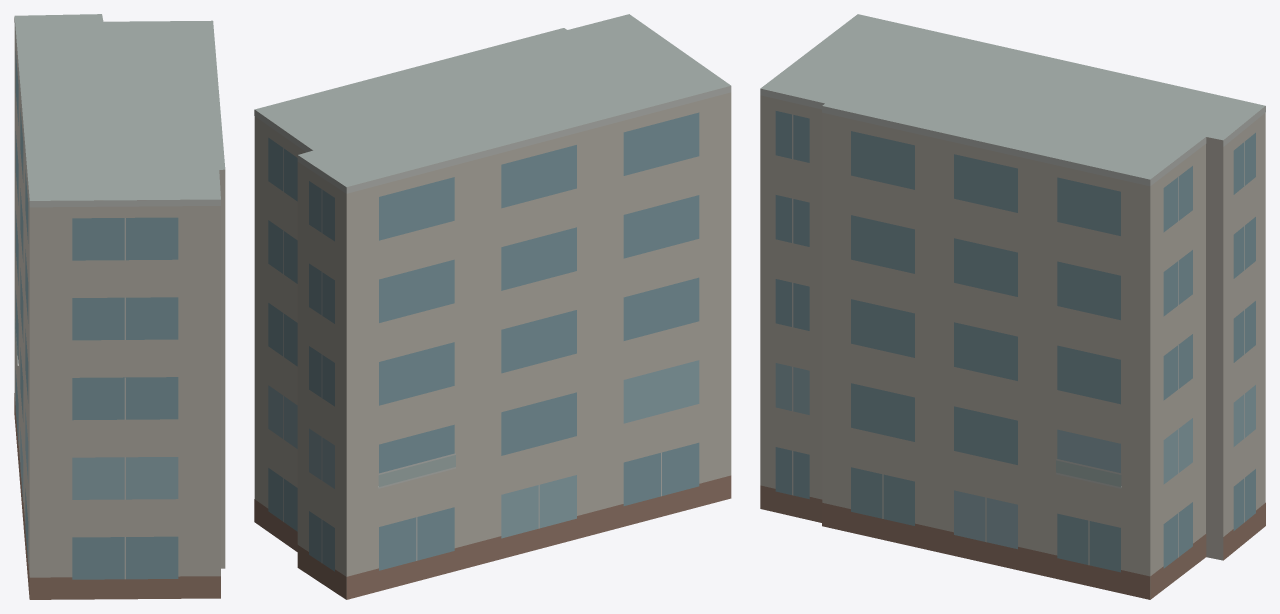
Rendered from survey-upis-32868591.glb.
3 views of the same model, side by side, from view 1: azimuth 30°, elevation 25°; view 2: azimuth 150°, elevation 25°; view 3: azimuth 270°, elevation 25° (orthographic). The views are drawn at different scales.
Visible parts, largest first — view 1: survey-upis-32868591.tmp; view 2: survey-upis-32868591.tmp; view 3: survey-upis-32868591.tmp.
Boxes of the visible parts, x1=… form: survey-upis-32868591.tmp: x1=14, y1=14, x2=225, y2=599; survey-upis-32868591.tmp: x1=254, y1=14, x2=731, y2=599; survey-upis-32868591.tmp: x1=760, y1=14, x2=1265, y2=599.
Bounding box in the file's own units: 12.9 × 15.25 × 16.63.
